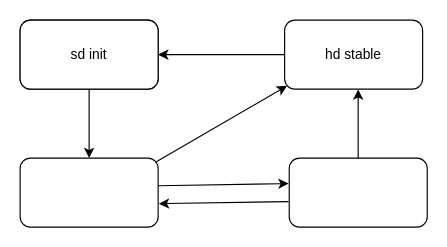
Some shapes in this 447 by 247 pixel diagram are drawn without their labels. The shapes that lost their labels are listed below. From the top down, each one's centre as x and y in pixels, then its label:
At (x=88, y=192): "sd stable，hd init".
At (x=357, y=192): "semi-stable".
